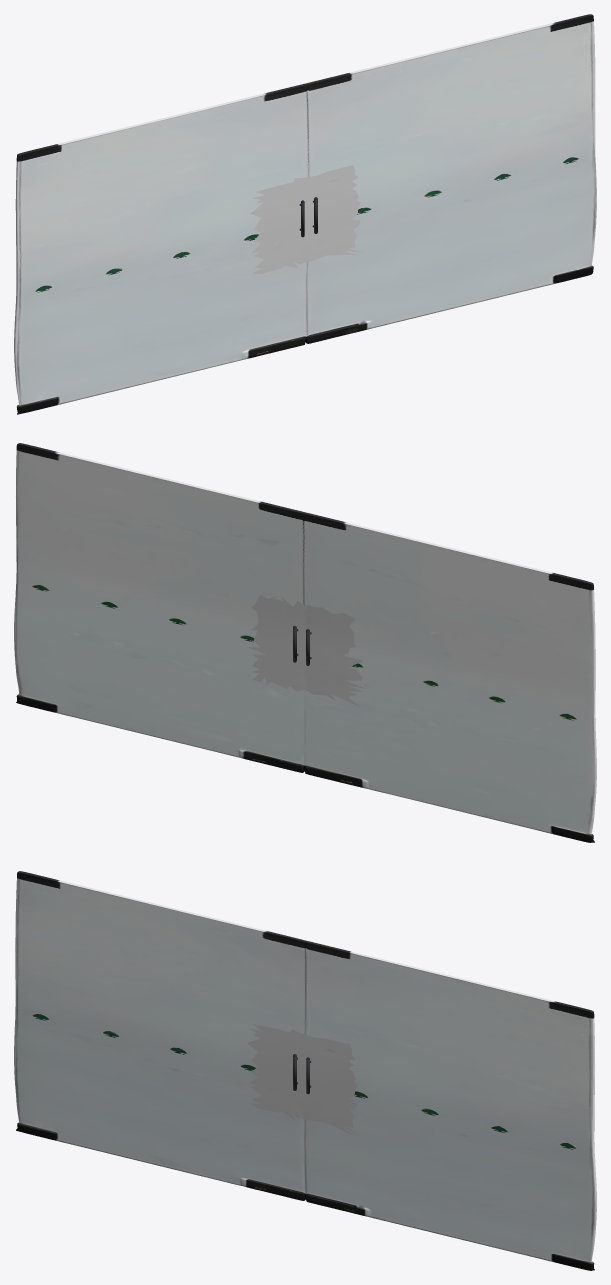
Rendered from GlassDoor.fbx.
3 renders of one model, top to bottom at view 1: azimuth 30°, elevation 25°; view 2: azimuth 150°, elevation 25°; view 3: azimuth 330°, elevation 25°, orthographic.
Parts seen in each view (by area): view 1: DoorLeft, DoorRight; view 2: DoorLeft, DoorRight; view 3: DoorLeft, DoorRight.
Boxes of the visible parts, x1=… form: DoorLeft: x1=14, y1=83, x2=315, y2=414; DoorRight: x1=296, y1=14, x2=596, y2=343; DoorLeft: x1=301, y1=513, x2=596, y2=842; DoorRight: x1=14, y1=443, x2=308, y2=772; DoorLeft: x1=14, y1=871, x2=314, y2=1200; DoorRight: x1=293, y1=939, x2=596, y2=1270.
Bounding box in the file's own units: 4.42 × 1.89 × 0.1309.
Materials: 3 (1 with a texture image).
